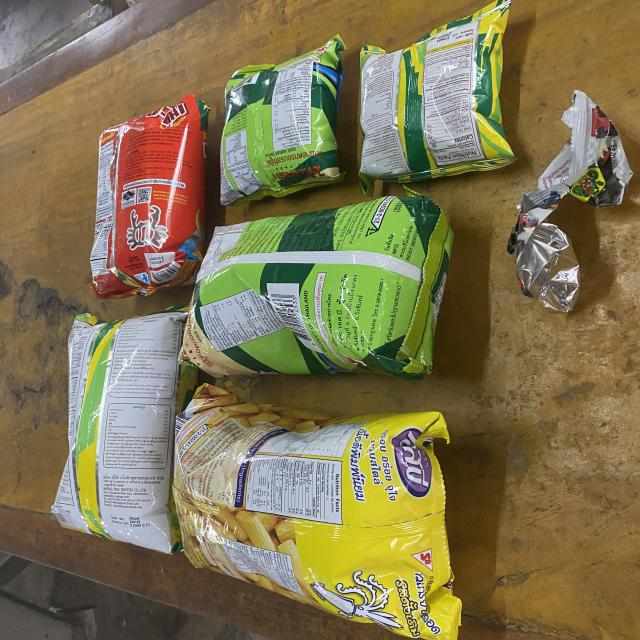plastik: (173, 384, 462, 640), (181, 191, 453, 379), (54, 303, 199, 551), (359, 0, 516, 194), (507, 89, 632, 312), (90, 94, 209, 298), (220, 35, 345, 206)
